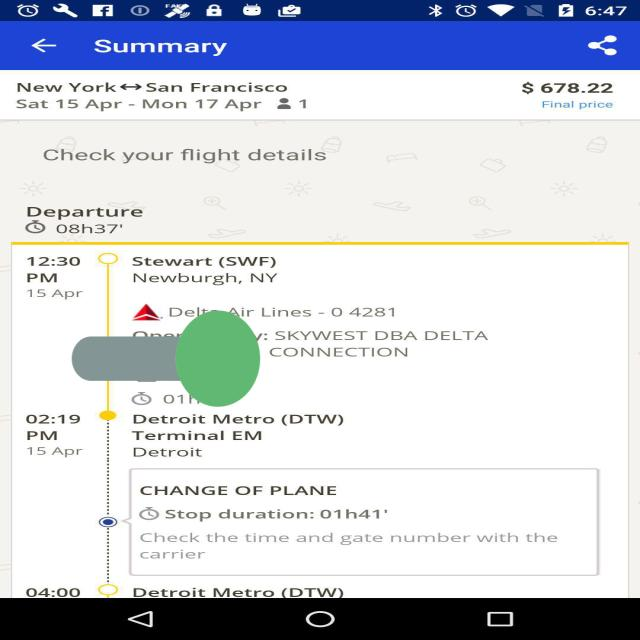social proof: (72, 251, 260, 466)
